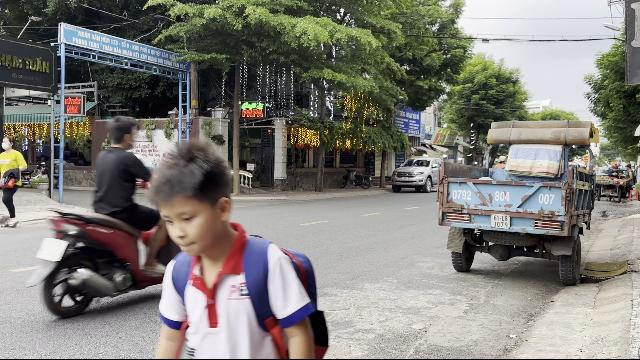licenseplate: (36, 238, 68, 262)
motorcyclist: (35, 112, 163, 320)
nohelmet: (106, 115, 138, 149)
